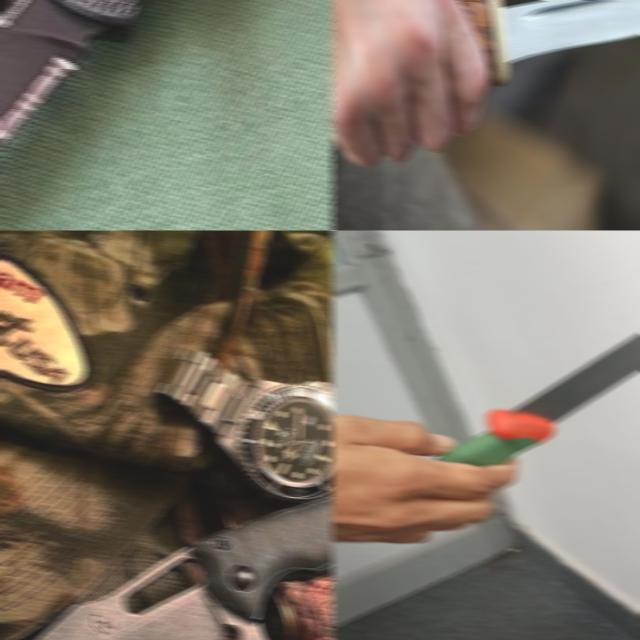Knife: (436, 334, 640, 467), (460, 0, 640, 85)
Knife_Handle: (330, 0, 640, 182)
